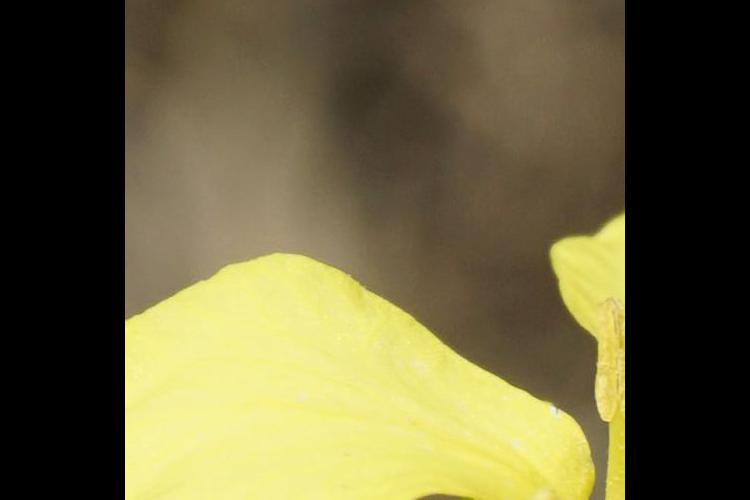yellow: (143, 243, 624, 500)
